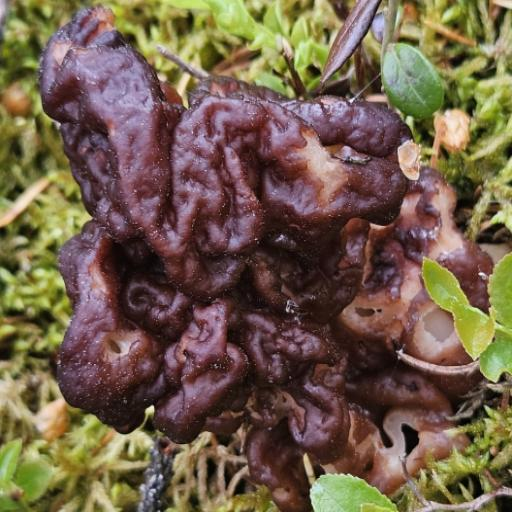mushroom: (40, 1, 479, 448)
